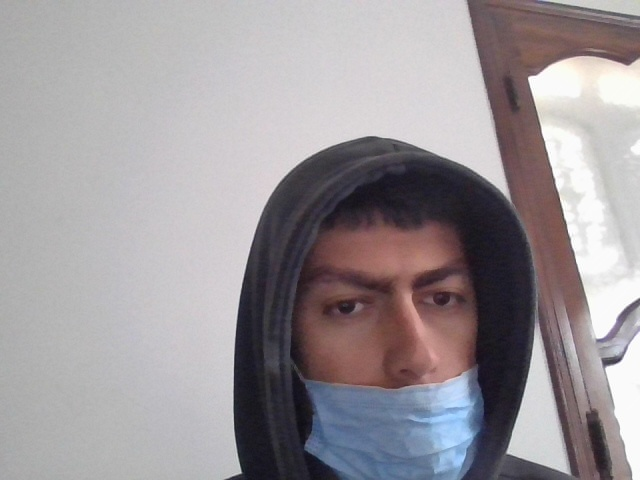mask_weared_incorrect: (276, 196, 493, 480)
